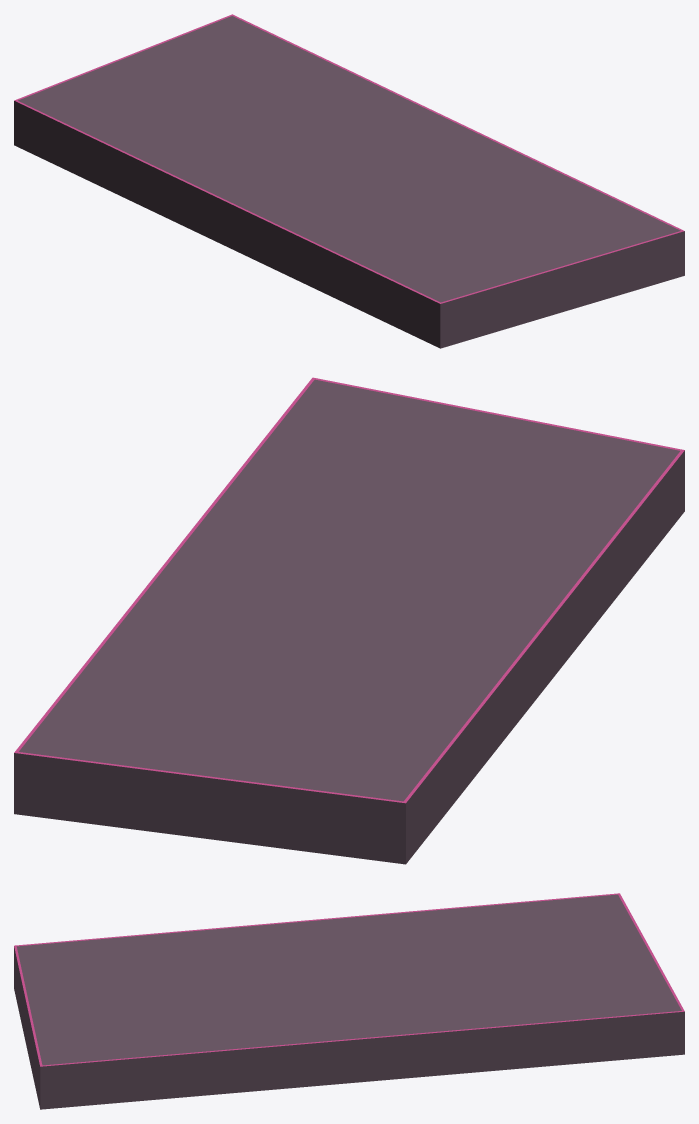
File: way-641119439.glb
3 renders of one model, top to bottom at view 1: azimuth 30°, elevation 25°; view 2: azimuth 150°, elevation 25°; view 3: azimuth 270°, elevation 25°, orthographic. The views are drawn at different scales.
Visible parts, largest first — view 1: way-641119439; view 2: way-641119439; view 3: way-641119439.
Boxes of the visible parts, x1,y1,x2,y2 form: way-641119439: (14, 14, 684, 348); way-641119439: (14, 377, 684, 864); way-641119439: (14, 893, 684, 1109).
Bounding box in the file's own units: 25.98 × 3 × 42.48.
